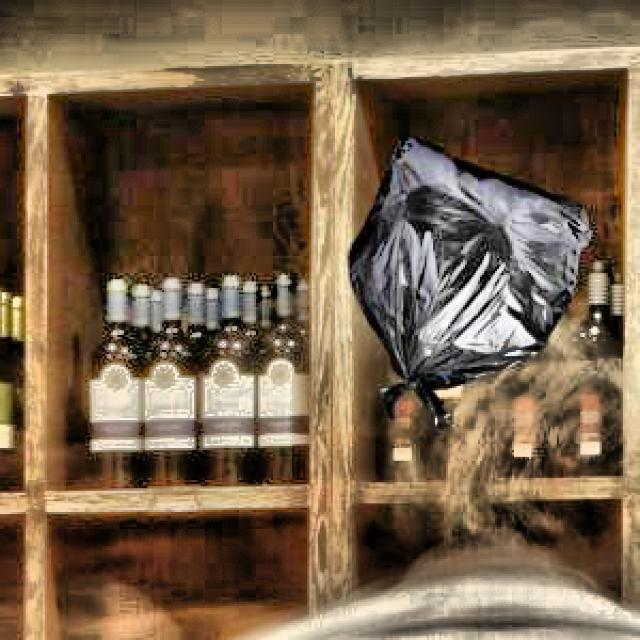Trashbag: (340, 118, 601, 434)
